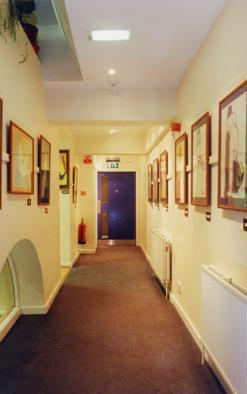Otro Obstaculo: (199, 263, 246, 389), (147, 231, 168, 286), (77, 215, 90, 248)
Puerta: (101, 177, 136, 245)
